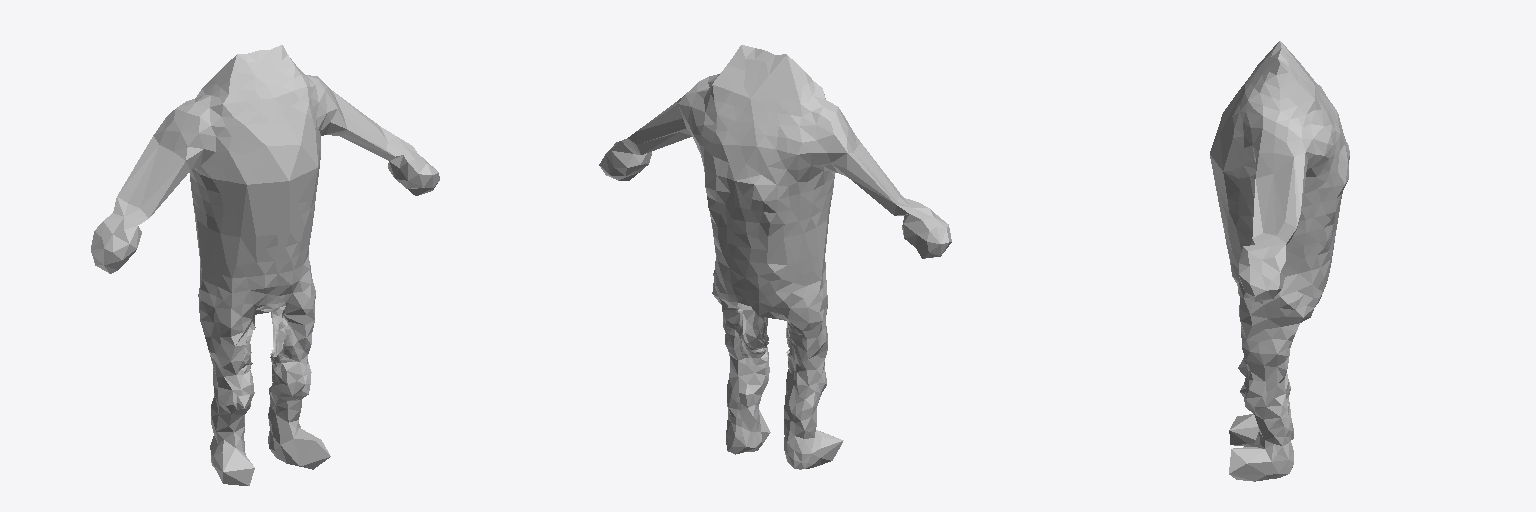
The model's file is npc1.obj.
The picture shows the model from 3 angles: view 1: azimuth 30°, elevation 25°; view 2: azimuth 150°, elevation 25°; view 3: azimuth 270°, elevation 25°; orthographic projection.
Visible parts, largest first — view 1: Icosphere; view 2: Icosphere; view 3: Icosphere.
Part boxes in pixels (bbox=[...]): Icosphere: bbox=[91, 45, 439, 485]; Icosphere: bbox=[599, 45, 951, 469]; Icosphere: bbox=[1210, 41, 1349, 481].
Bounding box in the file's own units: 6.73 × 7.73 × 2.39.